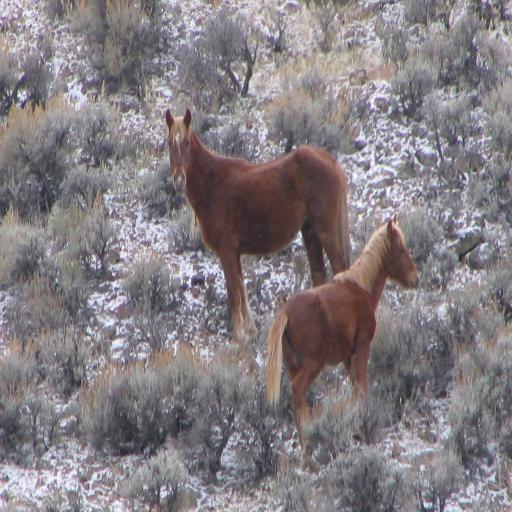horse: (165, 106, 353, 346), (262, 214, 420, 449)
